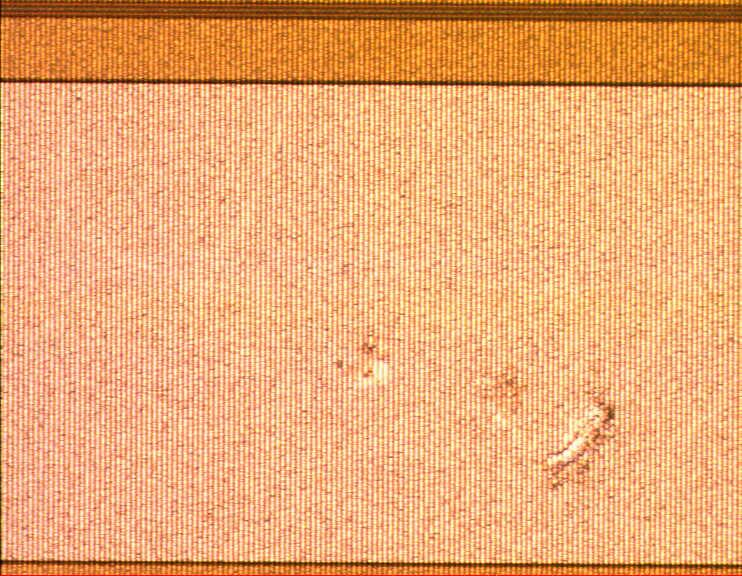SCRATCH: (306, 325, 633, 481)
